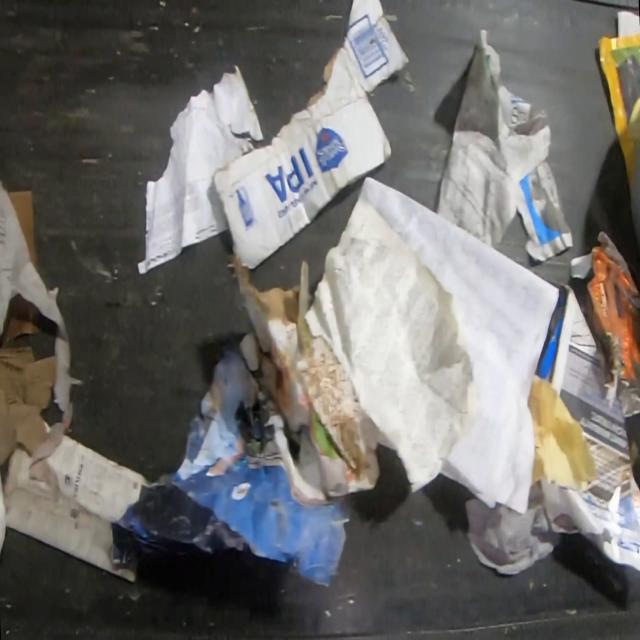cardboard: (214, 0, 406, 275), (235, 259, 380, 506), (0, 345, 57, 469), (9, 187, 36, 272), (2, 292, 39, 341)
soft_plastic: (569, 232, 640, 420)
